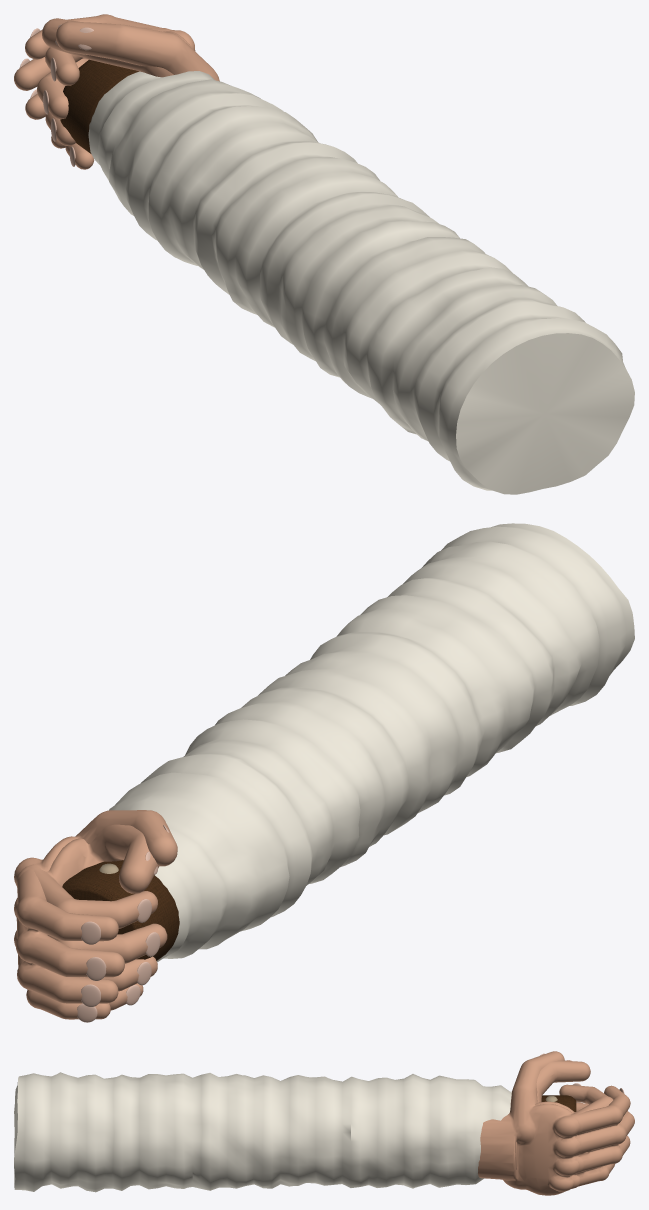
The model's file is hands.glb.
3 views of the same model, one above another, from view 1: azimuth 30°, elevation 25°; view 2: azimuth 150°, elevation 25°; view 3: azimuth 270°, elevation 25° (orthographic). The views are drawn at different scales.
Parts seen in each view (by area): view 1: sleeve, cup, fist; view 2: sleeve, cup, fist; view 3: sleeve, cup, fist.
Boxes of the visible parts, bbox=[...] form: sleeve: bbox=[60, 59, 634, 494]; cup: bbox=[14, 14, 219, 148]; fist: bbox=[37, 18, 173, 169]; sleeve: bbox=[62, 523, 634, 962]; cup: bbox=[14, 810, 177, 1022]; fist: bbox=[16, 824, 167, 1010]; sleeve: bbox=[14, 1072, 576, 1192]; cup: bbox=[478, 1051, 634, 1195]; fist: bbox=[515, 1060, 613, 1188].
Size of the model in its own units: 0.1214 by 0.1098 by 0.5284.
5 materials, 1 textured.
